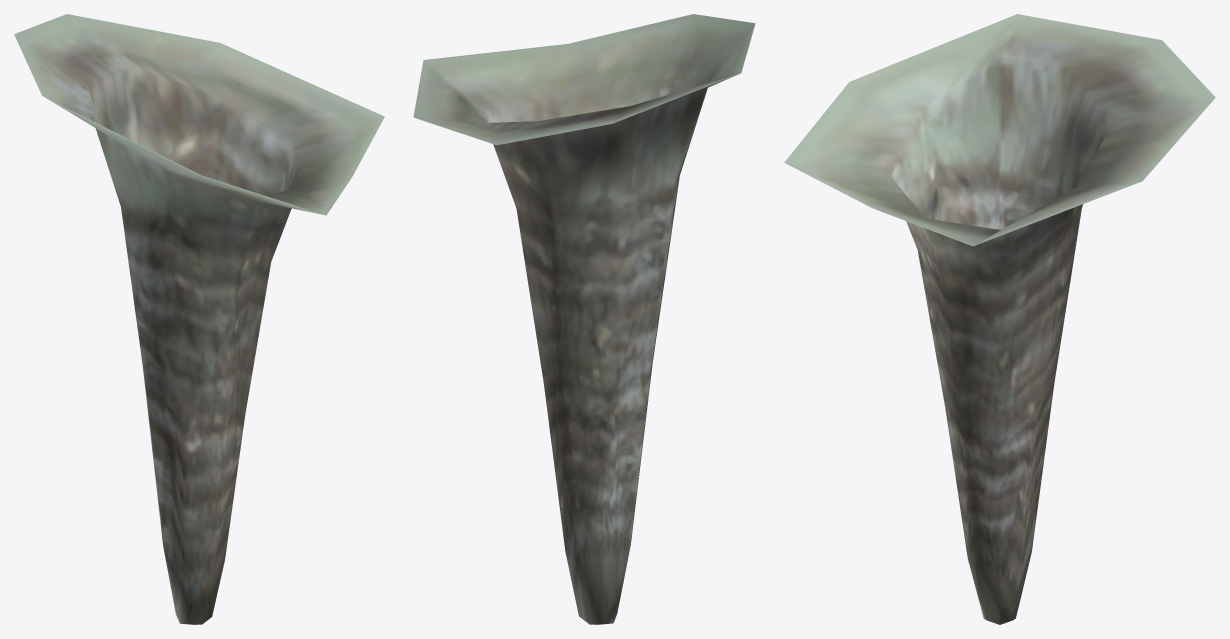
File: TROLLHOLE02_PS-MAINSTALAG11.fbx
3 renders of one model, left to right at view 1: azimuth 30°, elevation 25°; view 2: azimuth 150°, elevation 25°; view 3: azimuth 270°, elevation 25°, orthographic. The views are drawn at different scales.
Parts seen in each view (by area): view 1: TROLLHOLE02_PS-MAINSTALAG11; view 2: TROLLHOLE02_PS-MAINSTALAG11; view 3: TROLLHOLE02_PS-MAINSTALAG11.
Part boxes in pixels (x1=…): TROLLHOLE02_PS-MAINSTALAG11: x1=14, y1=14, x2=384, y2=624; TROLLHOLE02_PS-MAINSTALAG11: x1=413, y1=14, x2=755, y2=624; TROLLHOLE02_PS-MAINSTALAG11: x1=784, y1=14, x2=1215, y2=624.
Size of the model in its own units: 26344 by 43849 by 31594.
Materials: 1 (1 with a texture image).
